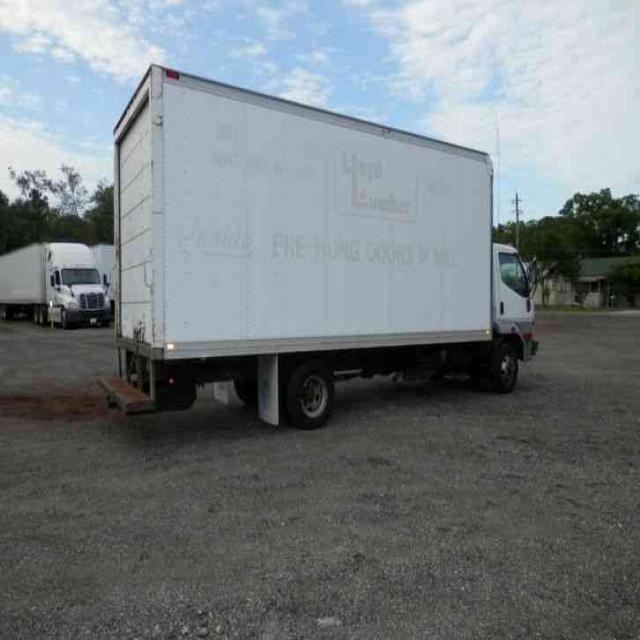Truck: (106, 61, 542, 426), (0, 232, 115, 330)
